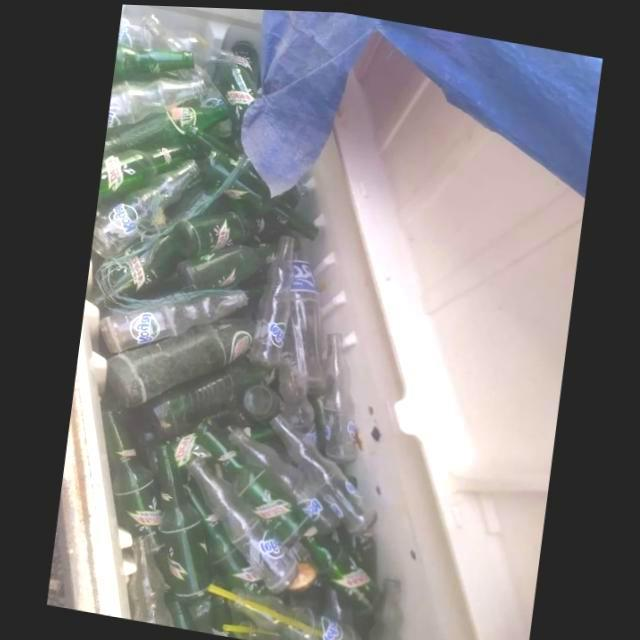glass_bottle: (184, 456, 297, 589), (192, 421, 308, 547), (121, 355, 271, 444), (106, 317, 254, 407), (268, 413, 374, 533), (227, 426, 338, 533), (91, 158, 198, 256), (98, 288, 248, 353), (152, 441, 209, 601), (101, 409, 164, 552), (277, 247, 325, 401), (226, 586, 362, 640), (103, 102, 236, 152), (247, 234, 294, 368), (314, 331, 359, 465), (176, 232, 276, 290), (97, 145, 190, 206), (171, 210, 273, 257), (107, 77, 203, 126), (298, 534, 369, 600), (125, 532, 167, 625), (226, 39, 262, 125), (113, 44, 194, 82)
